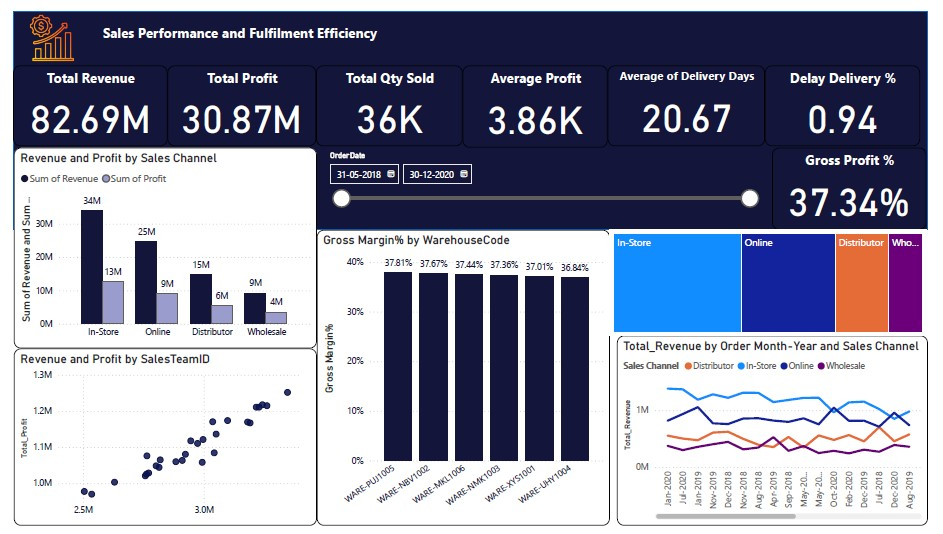

The page's visual inventory and layout, read from the dashboard file:
{"tool":"powerbi","page":{"name":"Performance","canvas":[1280,720],"ordinal":1},"visuals":[{"type":"shape","box":[0,0,1279.8,305.6],"z":0},{"type":"card","title":"Total Revenue","fields":{"Values":["Sum(main.Revenue)"]},"box":[0,76.4,216.1,112.9],"z":0,"group":"g1"},{"type":"clusteredColumnChart","title":"Revenue and Profit by Sales Channel","fields":{"Category":["main.Sales Channel"],"Y":["Sum(main.Revenue)","Sum(main.Profit)"]},"box":[1.5,191,423.2,280.7],"z":1000},{"type":"card","title":"Total Qty Sold","fields":{"Values":["Sum(main.Order Quantity)"]},"box":[423.9,76.4,204.6,112.9],"z":2000,"group":"g1"},{"type":"clusteredColumnChart","fields":{"Category":["main.WarehouseCode"],"Y":["Measure_Table.Gross_margin%"]},"box":[424.7,305.6,410,414.4],"z":2000},{"type":"card","title":"Total Profit","fields":{"Values":["Sum(main.Profit)"]},"box":[216.1,76.4,207.9,112.9],"z":2500,"group":"g1"},{"type":"group","id":"g1","title":"Cards","box":[0,76.4,1268.1,113.1],"z":3000},{"type":"card","title":"Average Profit","fields":{"Values":["Avg(main.Profit)"]},"box":[628.5,76.4,203,114.6],"z":3000,"group":"g1"},{"type":"textbox","box":[108.7,11.8,417.3,52.9],"z":4000},{"type":"card","title":"Average of Delivery Days","fields":{"Values":["Avg(main.Delivery Days)"]},"box":[831.5,76.4,221,112.9],"z":4000,"group":"g1"},{"type":"image","box":[0,0,108.7,76.4],"z":5000},{"type":"card","title":"Delay Delivery %","fields":{"Values":["Measure_Table.Delay Delivery %"]},"box":[1052.5,76.4,216.1,112.9],"z":5000,"group":"g1"},{"type":"card","title":"Gross Profit %","fields":{"Values":["Measure_Table.Gross_margin%"]},"box":[1062.4,191,216,114.6],"z":6000},{"type":"lineChart","fields":{"Y":["Measure_Table.Total_Revenue"],"Series":["main.Sales Channel"],"Category":["main.Order Month-Year"]},"box":[844.9,454,434.9,266],"z":7000},{"type":"scatterChart","title":"Revenue and Profit by SalesTeamID","fields":{"X":["Measure_Table.Total_Revenue"],"Y":["Measure_Table.Total_Profit"],"Category":["main.SalesTeamID"]},"box":[1.5,471.7,423.2,248.3],"z":8000},{"type":"treemap","fields":{"Group":["main.Sales Channel"],"Values":["CountNonNull(main.CustomerID)"]},"box":[834.6,305.6,443.8,148.4],"z":9000},{"type":"slicer","fields":{"Values":["main.OrderDate"]},"box":[430.5,189.6,621.6,116.1],"z":10000}]}

Visuals, with their boxes in screenshot pixels (x1, y1, x2, y2), scaled from the page's 1280x720 canvas onto the 943x534 screenshot:
shape: locate(0, 0, 942, 227)
"Total Revenue" card: locate(0, 57, 159, 140)
"Revenue and Profit by Sales Channel" clusteredColumnChart: locate(1, 142, 313, 350)
"Total Qty Sold" card: locate(312, 57, 463, 140)
clusteredColumnChart - main.WarehouseCode x Measure_Table.Gross_margin%: locate(313, 227, 615, 533)
"Total Profit" card: locate(159, 57, 312, 140)
"Cards" group: locate(0, 57, 934, 141)
"Average Profit" card: locate(463, 57, 613, 142)
textbox: locate(80, 9, 388, 48)
"Average of Delivery Days" card: locate(613, 57, 775, 140)
image: locate(0, 0, 80, 57)
"Delay Delivery %" card: locate(775, 57, 935, 140)
"Gross Profit %" card: locate(783, 142, 942, 227)
lineChart - Measure_Table.Total_Revenue x main.Sales Channel: locate(622, 337, 942, 533)
"Revenue and Profit by SalesTeamID" scatterChart: locate(1, 350, 313, 533)
treemap - main.Sales Channel x CountNonNull(main.CustomerID): locate(615, 227, 942, 337)
slicer - main.OrderDate: locate(317, 141, 775, 227)
